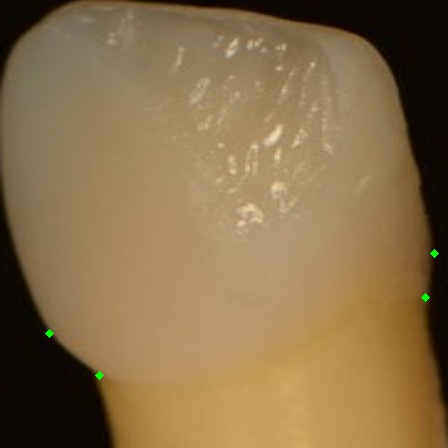coin_1: (425, 297, 445, 317)
coin_2: (434, 253, 448, 273)
coin_3: (99, 375, 119, 395)
coin_4: (49, 333, 69, 353)
